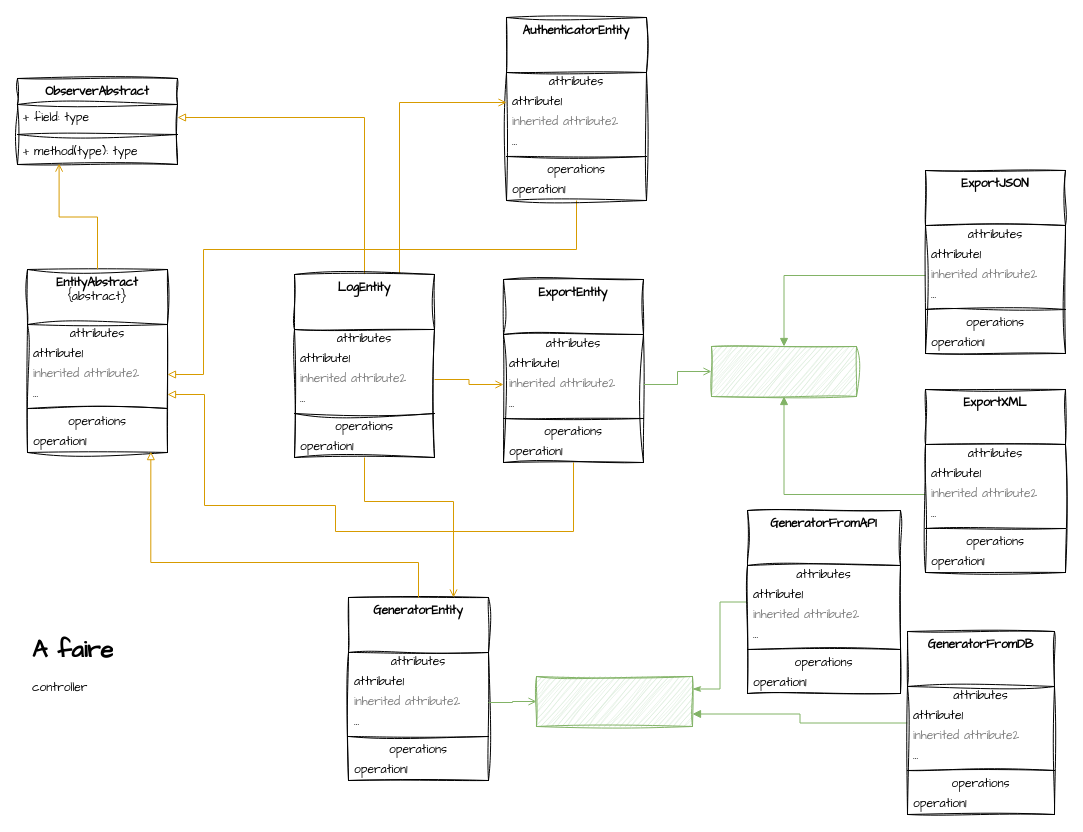
Some shapes in this 1083 by 832 pixel diagram are drawn without their labels. Each missing label, with the centre of its shape:
«interface» EXportEntityInterface: the point at 783,371
«interface» GeneratorEntityInterface: the point at 614,701
